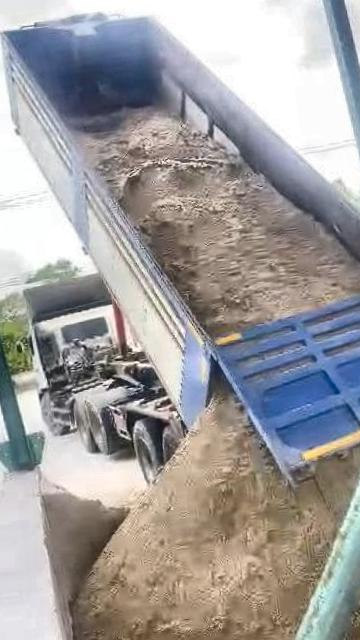sand: (74, 397, 360, 640), (83, 108, 360, 338), (43, 480, 126, 603), (332, 427, 360, 640)
